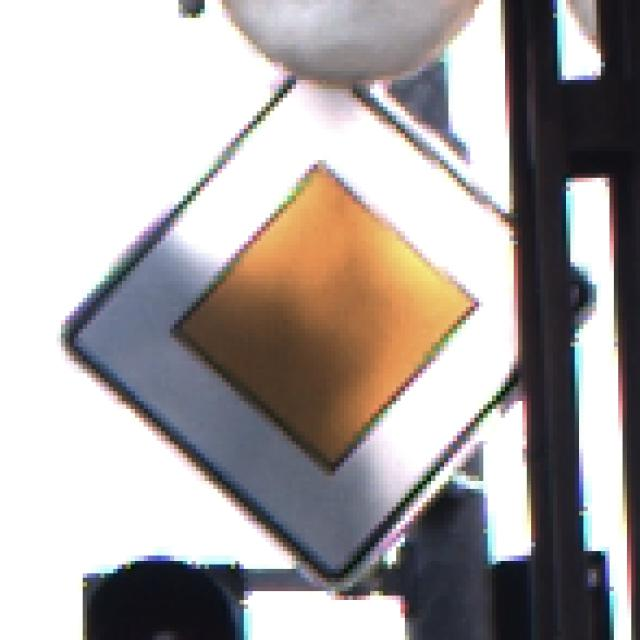Main Road: (58, 59, 589, 588)
